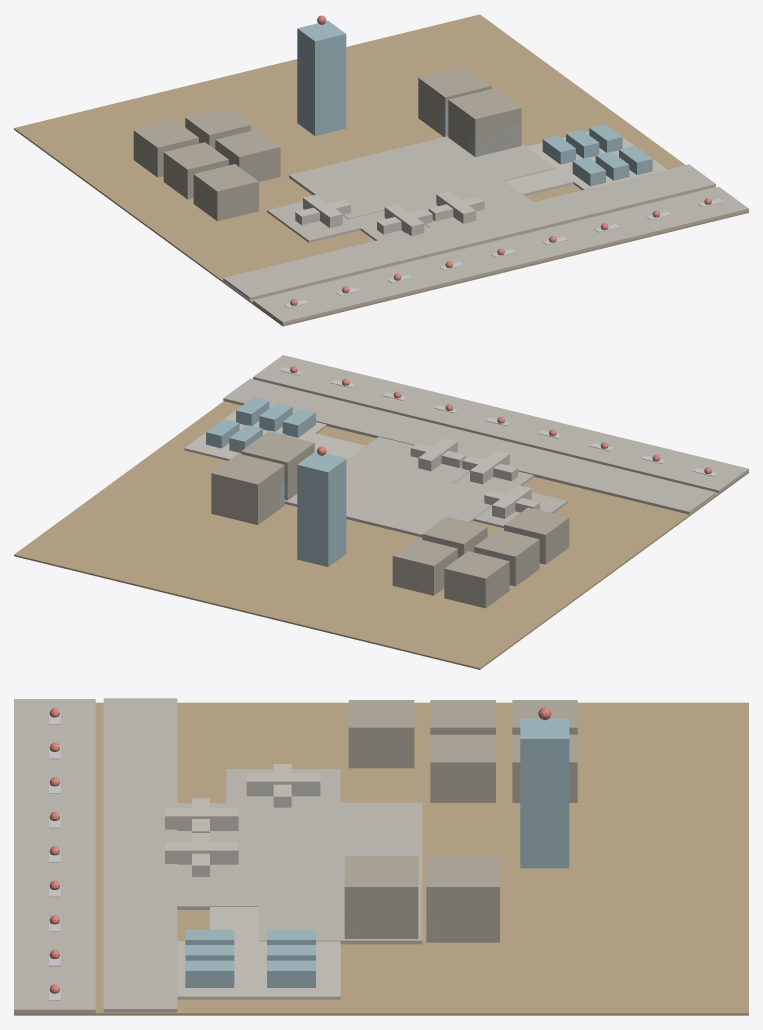
Rendered from stage_19.glb.
3 views of the same model, one above another, from view 1: azimuth 30°, elevation 25°; view 2: azimuth 150°, elevation 25°; view 3: azimuth 270°, elevation 25° (orthographic). The views are drawn at different scales.
Visible parts, largest first — view 1: geometry_0; view 2: geometry_0; view 3: geometry_0.
Boxes of the visible parts, box(x1,y1,x2,y2) form: geometry_0: box(14, 14, 748, 326); geometry_0: box(14, 355, 748, 669); geometry_0: box(14, 698, 748, 1015).
Size of the model in its own units: 9 by 2.06 by 9.
